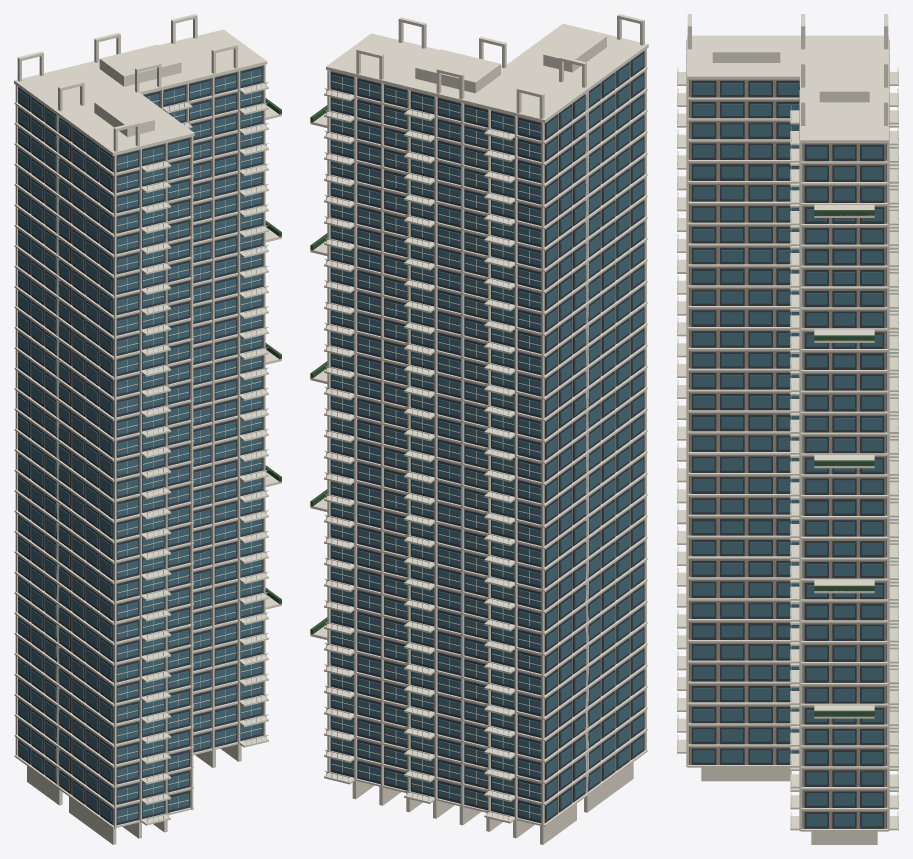
File: tower-e.glb
3 views of the same model, side by side, from view 1: azimuth 30°, elevation 25°; view 2: azimuth 150°, elevation 25°; view 3: azimuth 270°, elevation 25° (orthographic). The views are drawn at different scales.
Parts seen in each view (by area): view 1: glass, ivory, dark, sand, rail, leaf; view 2: glass, ivory, dark, sand, rail, leaf; view 3: ivory, glass, dark, sand, rail, leaf.
Boxes of the visible parts, bbox=[...] form: glass: bbox=[18, 69, 261, 822]; ivory: bbox=[14, 14, 281, 844]; dark: bbox=[18, 66, 262, 825]; sand: bbox=[18, 65, 262, 825]; rail: bbox=[146, 82, 268, 822]; leaf: bbox=[265, 98, 281, 604]; glass: bbox=[331, 54, 643, 820]; ivory: bbox=[310, 14, 648, 844]; dark: bbox=[330, 51, 644, 823]; sand: bbox=[330, 61, 644, 823]; rail: bbox=[324, 88, 510, 820]; leaf: bbox=[310, 105, 327, 634]; ivory: bbox=[677, 14, 898, 844]; glass: bbox=[693, 83, 882, 826]; dark: bbox=[689, 79, 886, 828]; sand: bbox=[690, 79, 885, 828]; rail: bbox=[677, 67, 898, 826]; leaf: bbox=[814, 210, 874, 716].
Bounding box in the file's own units: 36.2 × 108 × 29.41.
